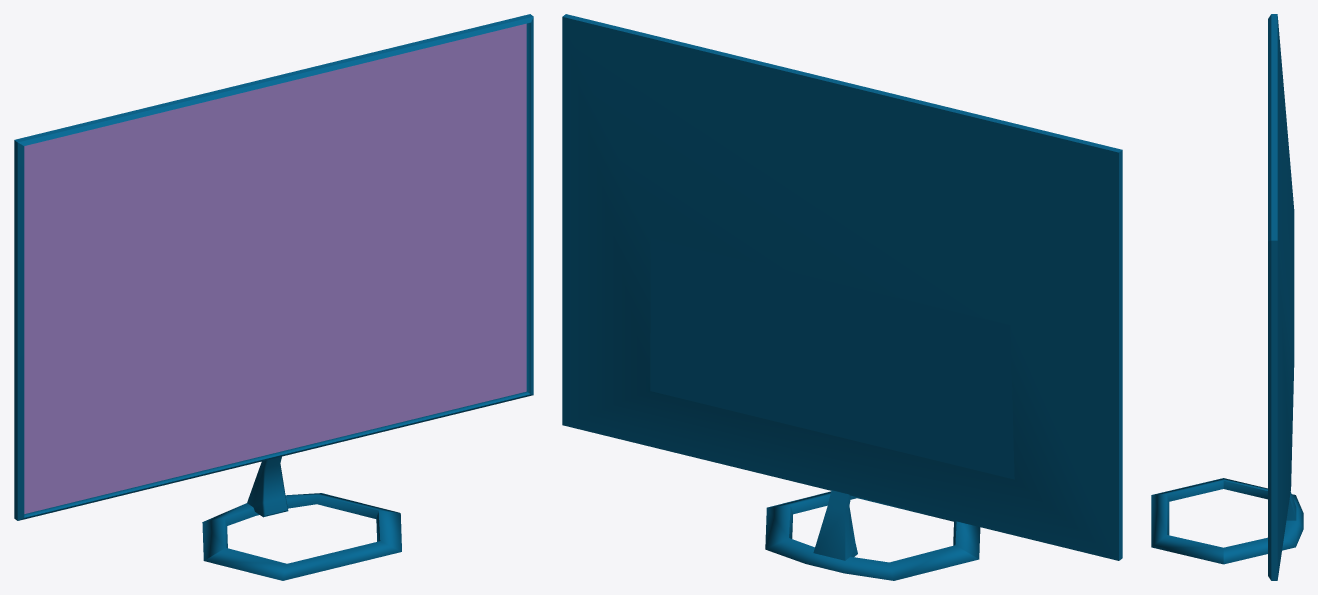
Rendered from NewMonitor.fbx.
The picture shows the model from 3 angles, left to right: view 1: azimuth 30°, elevation 25°; view 2: azimuth 150°, elevation 25°; view 3: azimuth 270°, elevation 25°; orthographic projection. The views are drawn at different scales.
Visible parts, largest first — view 1: Monitor1; view 2: Monitor1; view 3: Monitor1.
Boxes of the visible parts, bbox=[...] form: Monitor1: bbox=[14, 14, 533, 580]; Monitor1: bbox=[562, 14, 1122, 580]; Monitor1: bbox=[1151, 14, 1303, 580].
Size of the model in its own units: 1369 by 1111 by 389.
